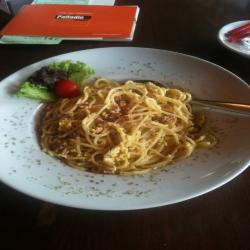carbonara: (44, 83, 211, 177)
salad: (24, 60, 86, 102)
